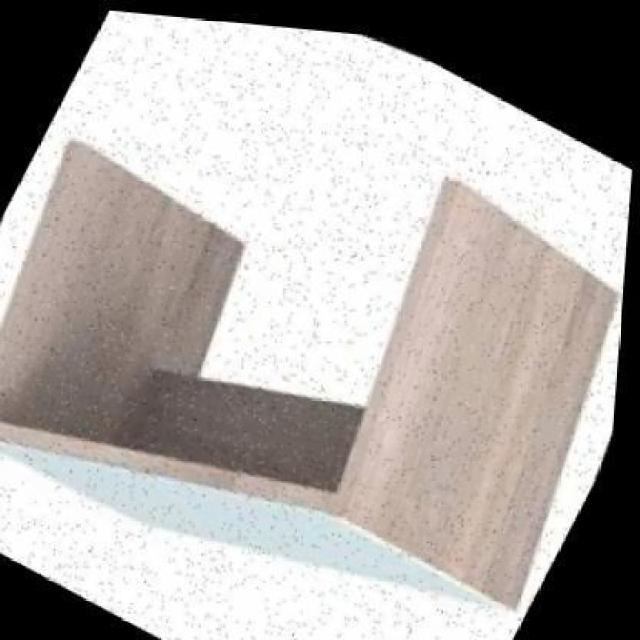tables: (0, 3, 635, 638)
